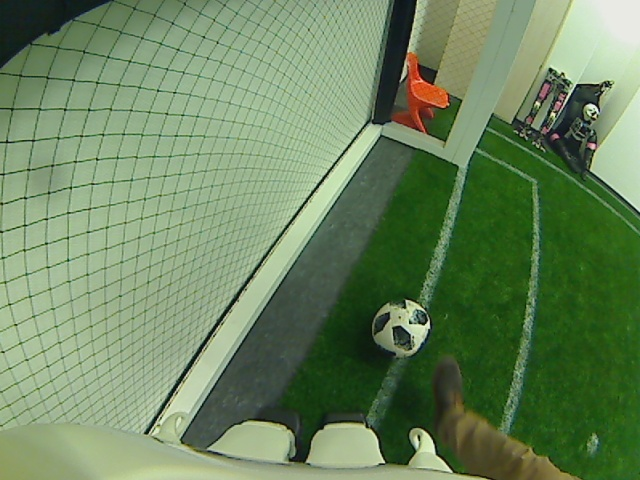ball: (370, 294, 430, 359)
